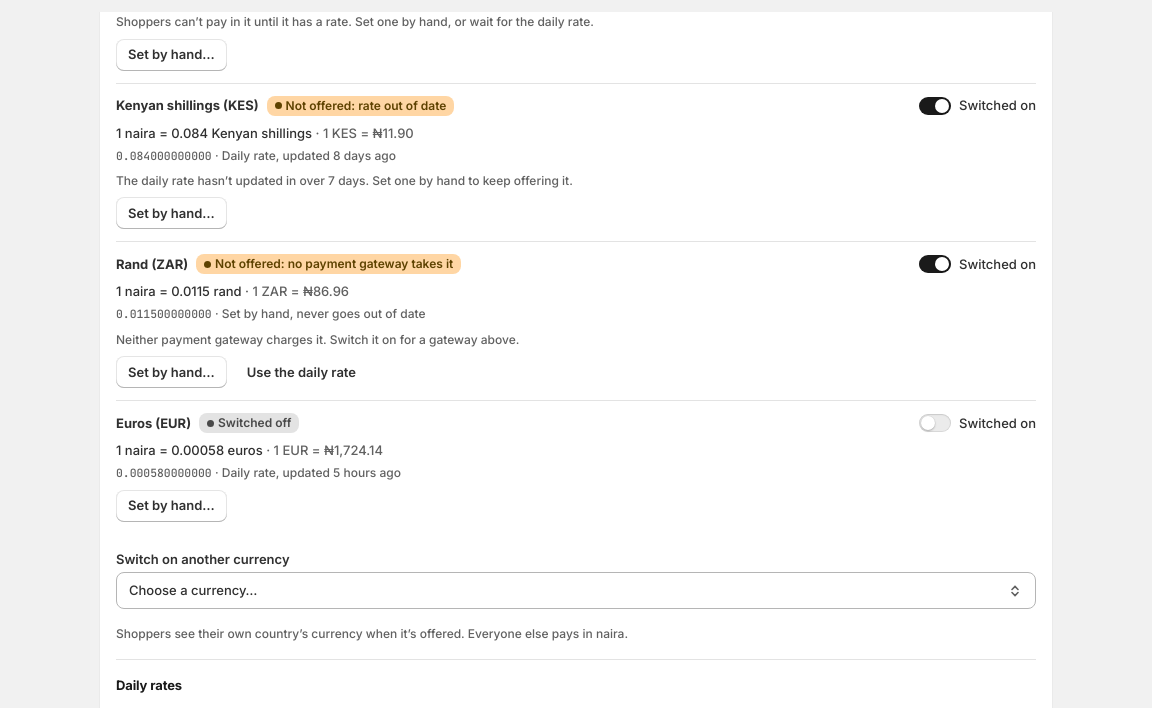
Test: Settings → Payments → Currencies › goes back to the daily rate with a bodiless DELETE
The width and height of the screenshot is (1152, 708).
Click the button with aria-label "Use the daily rate for Rand (ZAR)": click(301, 372) [235,356,368,388]
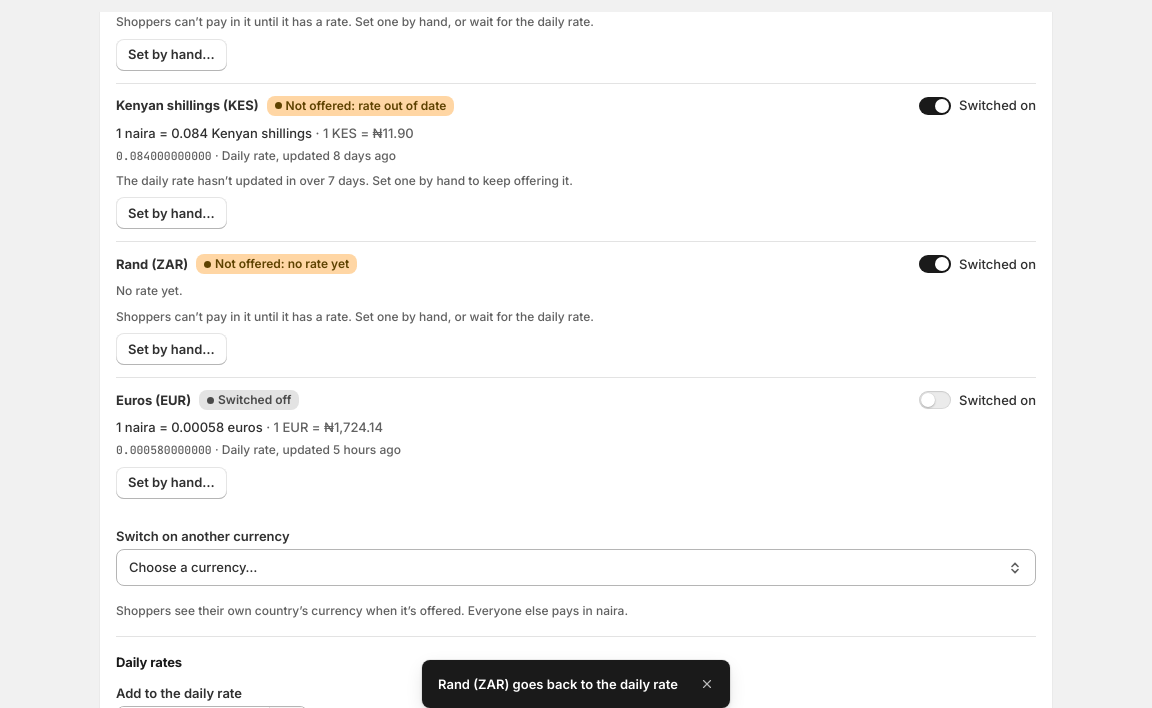
Result: the list item "Rand (ZAR)" shows "No rate yet." at [116,283,183,298]
